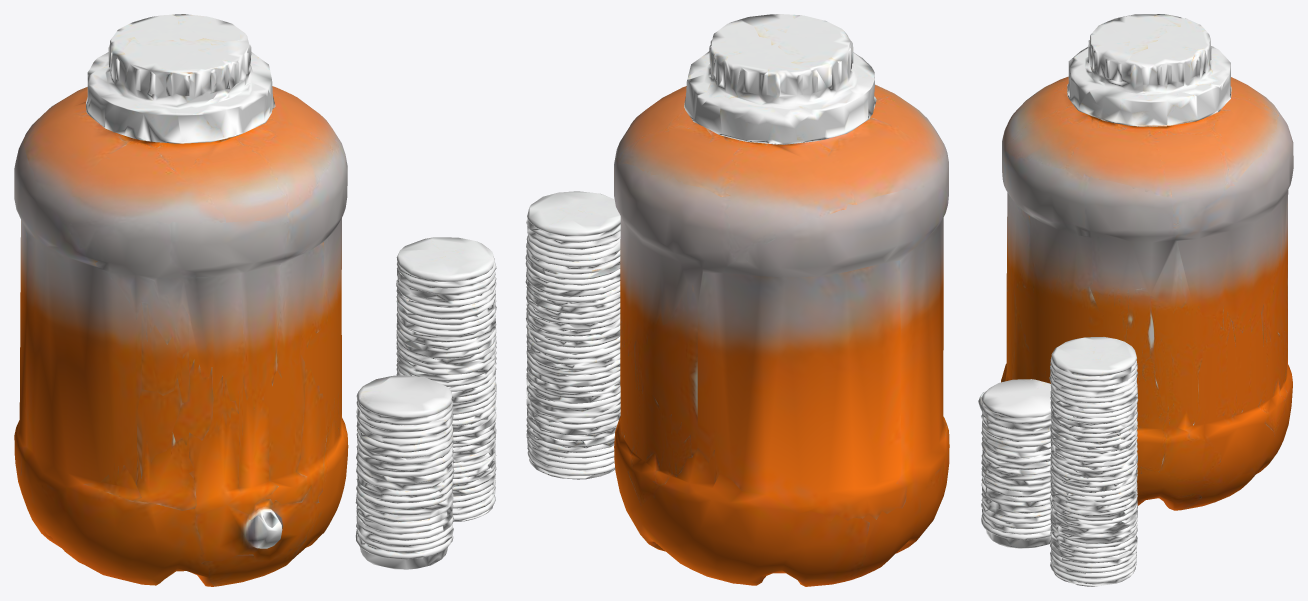
The model's file is water_cooler.glb.
3 renders of one model, left to right at view 1: azimuth 30°, elevation 25°; view 2: azimuth 150°, elevation 25°; view 3: azimuth 270°, elevation 25°, orthographic. The views are drawn at different scales.
Size of the model in its own units: 1.7 by 1.9 by 1.26.
Materials: 1 (1 with a texture image).
